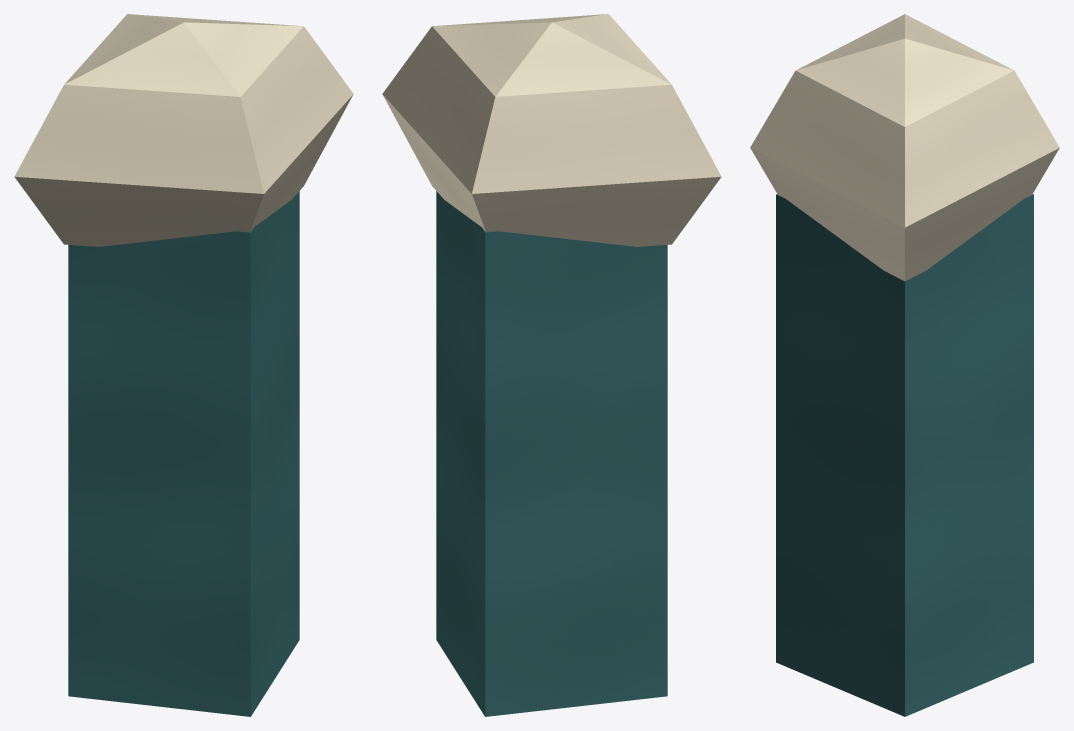
The model's file is atlas100-s032-a05.lod2.glb.
3 views of the same model, side by side, from view 1: azimuth 30°, elevation 25°; view 2: azimuth 150°, elevation 25°; view 3: azimuth 270°, elevation 25° (orthographic). The views are drawn at different scales.
Parts seen in each view (by area): view 1: atlas100-s032-a05:part-001, atlas100-s032-a05:part-002; view 2: atlas100-s032-a05:part-001, atlas100-s032-a05:part-002; view 3: atlas100-s032-a05:part-001, atlas100-s032-a05:part-002.
Part boxes in pixels (x1,y1,x2,y2): atlas100-s032-a05:part-001: (68, 191, 299, 716); atlas100-s032-a05:part-002: (14, 14, 353, 246); atlas100-s032-a05:part-001: (436, 191, 667, 716); atlas100-s032-a05:part-002: (382, 14, 721, 246); atlas100-s032-a05:part-001: (776, 194, 1033, 716); atlas100-s032-a05:part-002: (750, 14, 1059, 281).
Bounding box in the file's own units: 0.2402 × 0.4368 × 0.1966.
2 materials, 2 textured.
